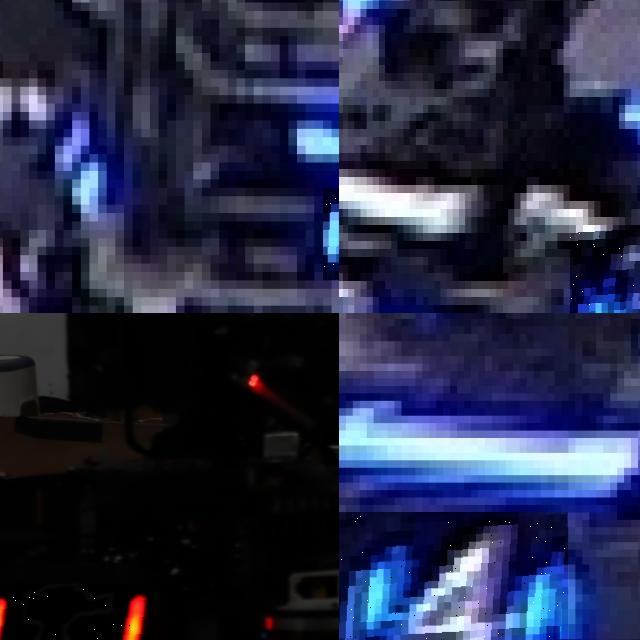B3: (339, 233, 422, 313), (569, 225, 640, 313)
B4: (339, 512, 568, 640)
Rs: (0, 583, 153, 640)
